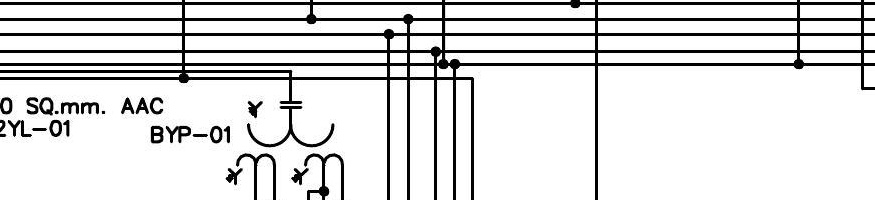115_cvt_3p: (225, 101, 345, 186)
